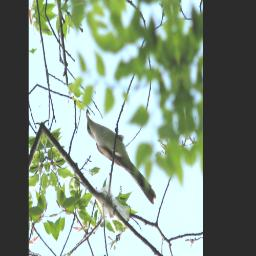Cuckoo: (84, 97, 156, 220)
